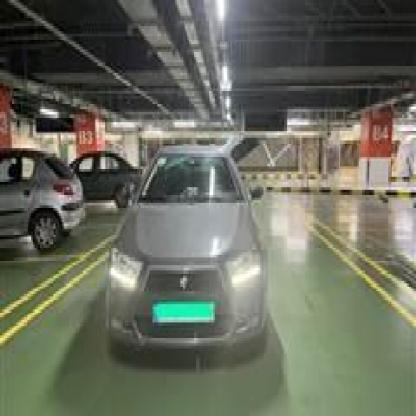Car: (87, 140, 270, 366), (0, 140, 83, 262), (64, 133, 141, 208)
